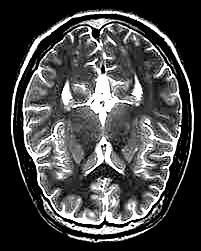Normal_Brain: (2, 4, 201, 251)
